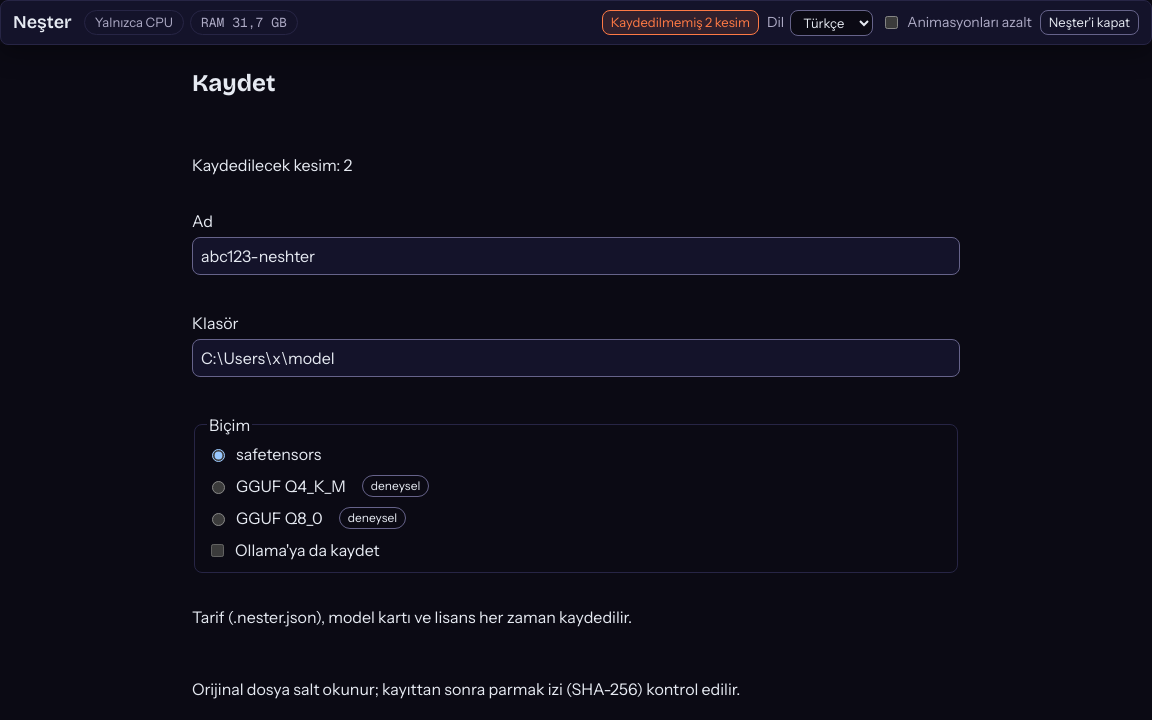
Test: Ollama only with GGUF and ollama on PATH
Expected: the field labelled "Ad" holds "abc123-neshter", [192,237,960,275]
Expected: the checkbox labelled "Ollama'ya da kaydet" is disabled, [211,544,224,557]
Click the radio button labelled "GGUF Q8_0 deneysel" at (218, 520), box [212,513,225,526]
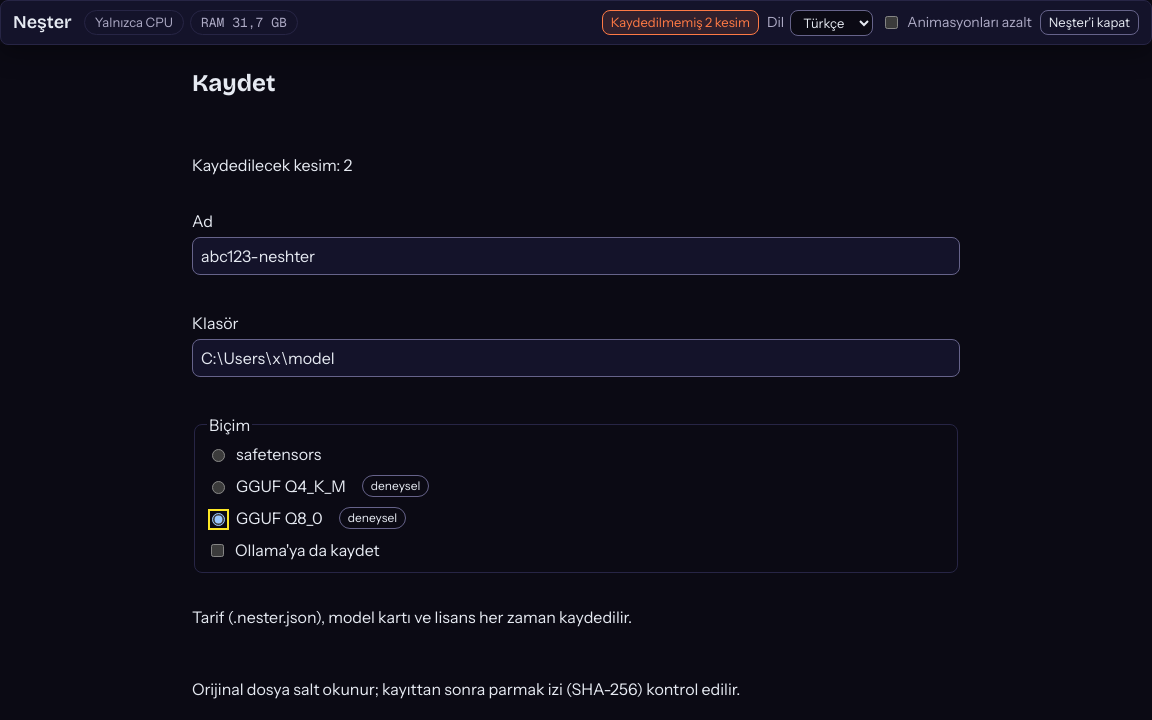
Expected: the checkbox labelled "Ollama'ya da kaydet" is not checked, [211,544,224,557]
Expected: the checkbox labelled "Ollama'ya da kaydet" is enabled, [211,544,224,557]
Click the radio button labelled "safetensors" at (218, 456), box [212,449,225,462]
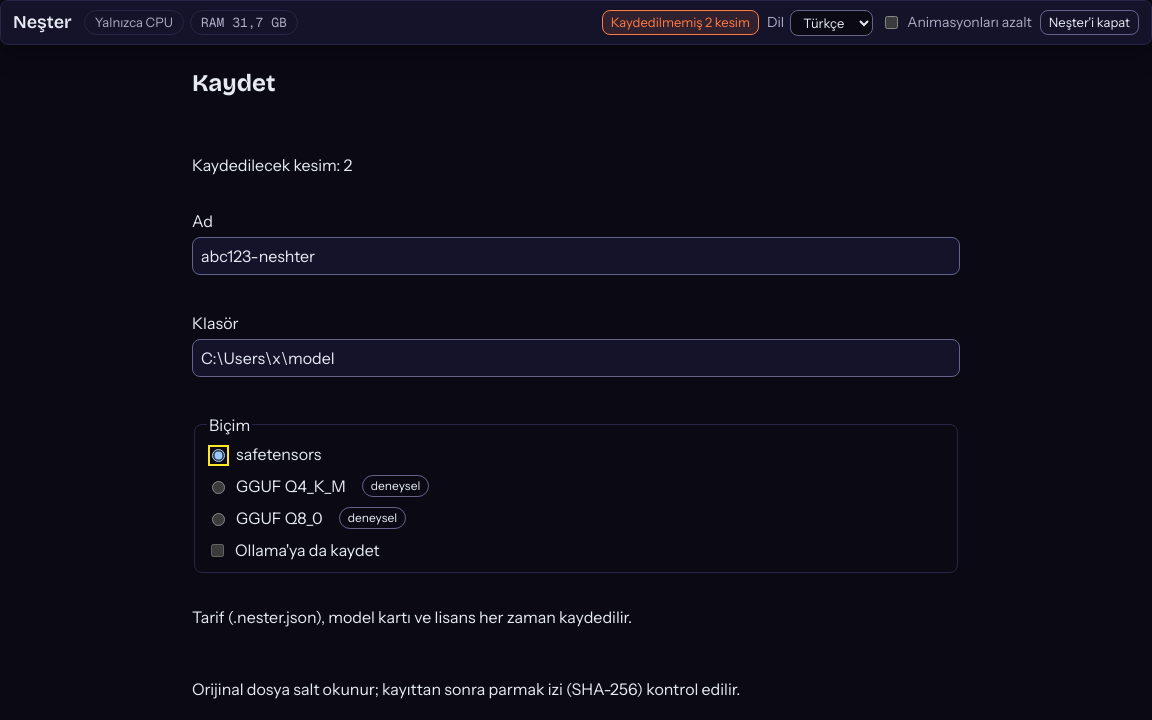
Expected: the checkbox labelled "Ollama'ya da kaydet" is disabled, [211,544,224,557]
